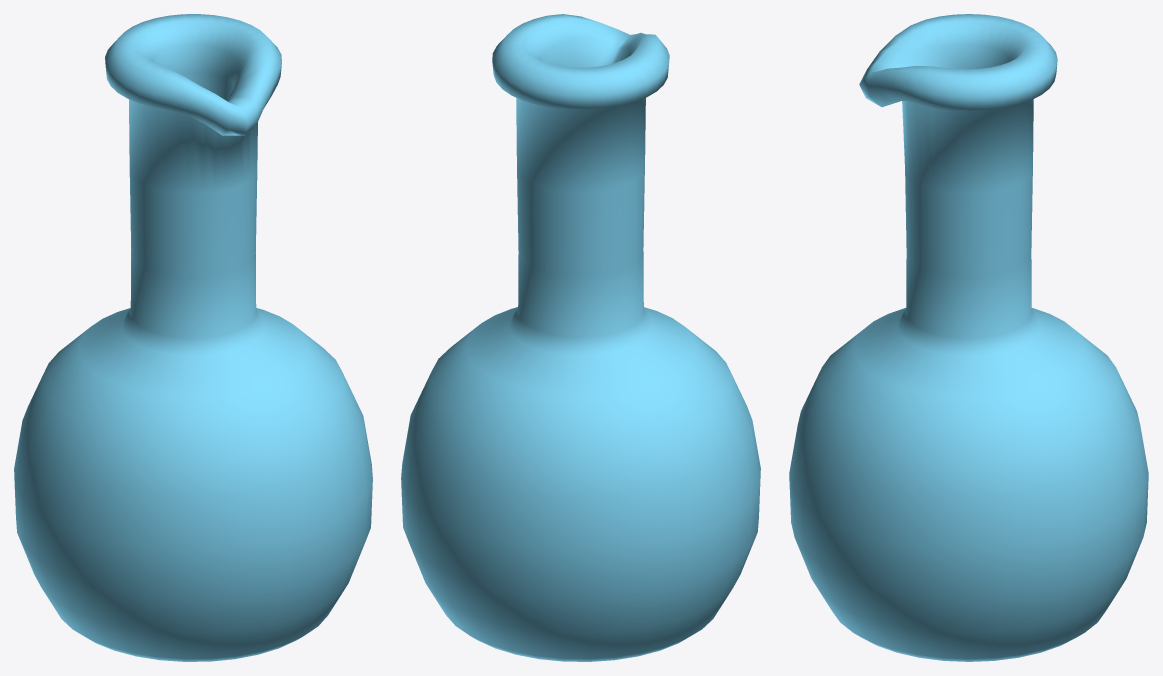
Rendered from Flask, Flat Bottom, Long Neck, Spout.fbx.
The picture shows the model from 3 angles, left to right: view 1: azimuth 30°, elevation 25°; view 2: azimuth 150°, elevation 25°; view 3: azimuth 270°, elevation 25°; orthographic projection.
Visible parts, largest first — view 1: Flask, Flat Bottom, Long Neck, Spout; view 2: Flask, Flat Bottom, Long Neck, Spout; view 3: Flask, Flat Bottom, Long Neck, Spout.
Boxes of the visible parts, x1,y1,x2,y2 form: Flask, Flat Bottom, Long Neck, Spout: (14, 14, 372, 661); Flask, Flat Bottom, Long Neck, Spout: (401, 14, 760, 661); Flask, Flat Bottom, Long Neck, Spout: (789, 14, 1148, 661).
Bounding box in the file's own units: 0.4439 × 0.7674 × 0.4439.
